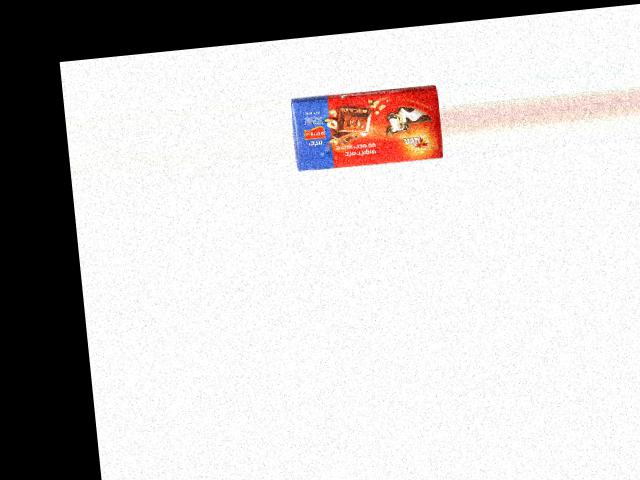chocolate: (291, 78, 443, 170)
